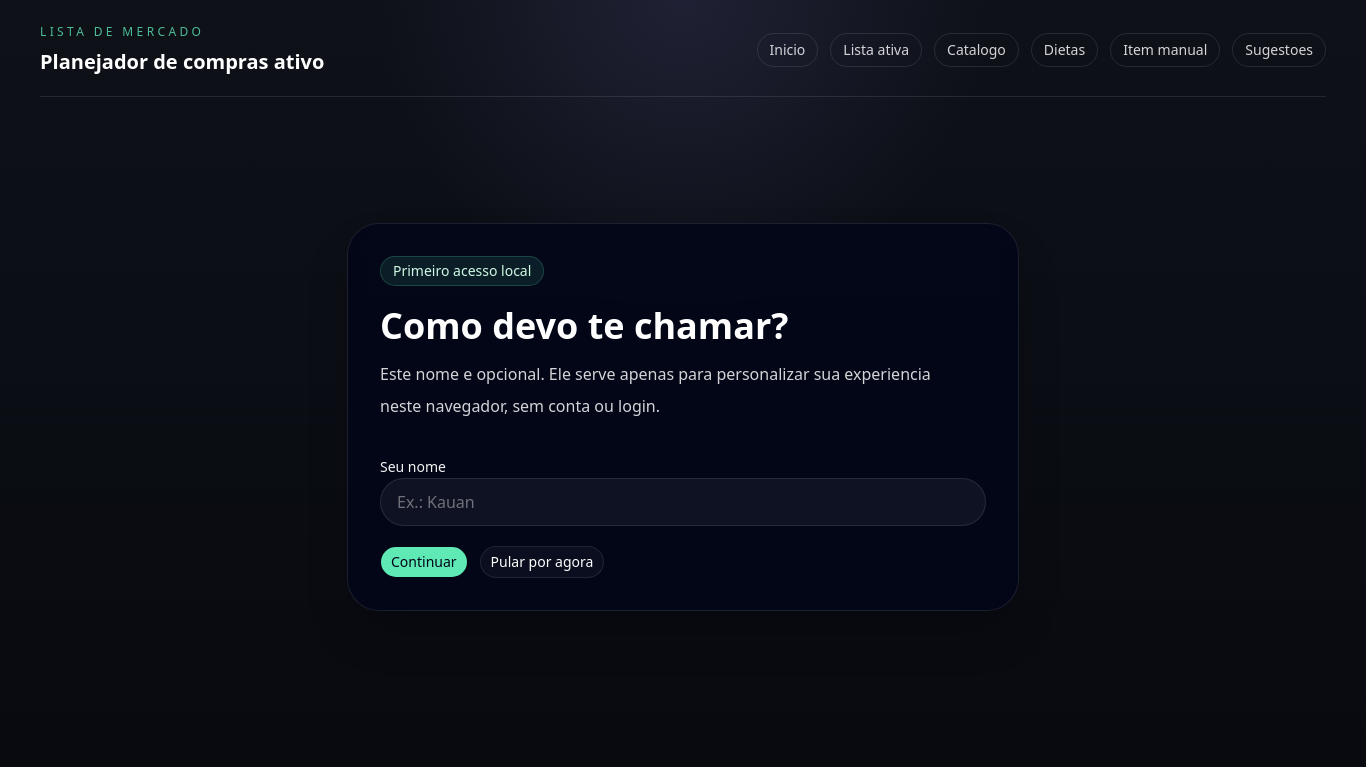
Scenario: shopping-list workspace › shows the first-use step and lets the user skip directly to the workspace
The image size is (1366, 767).
Check: the heading "Como devo te chamar?" is shown, box [380,301,788,350]
What coordinates should you click on to do the following:
click the button "Pular por agora"
I would click on:
 (542, 562)
Its box is [480,546,604,578].
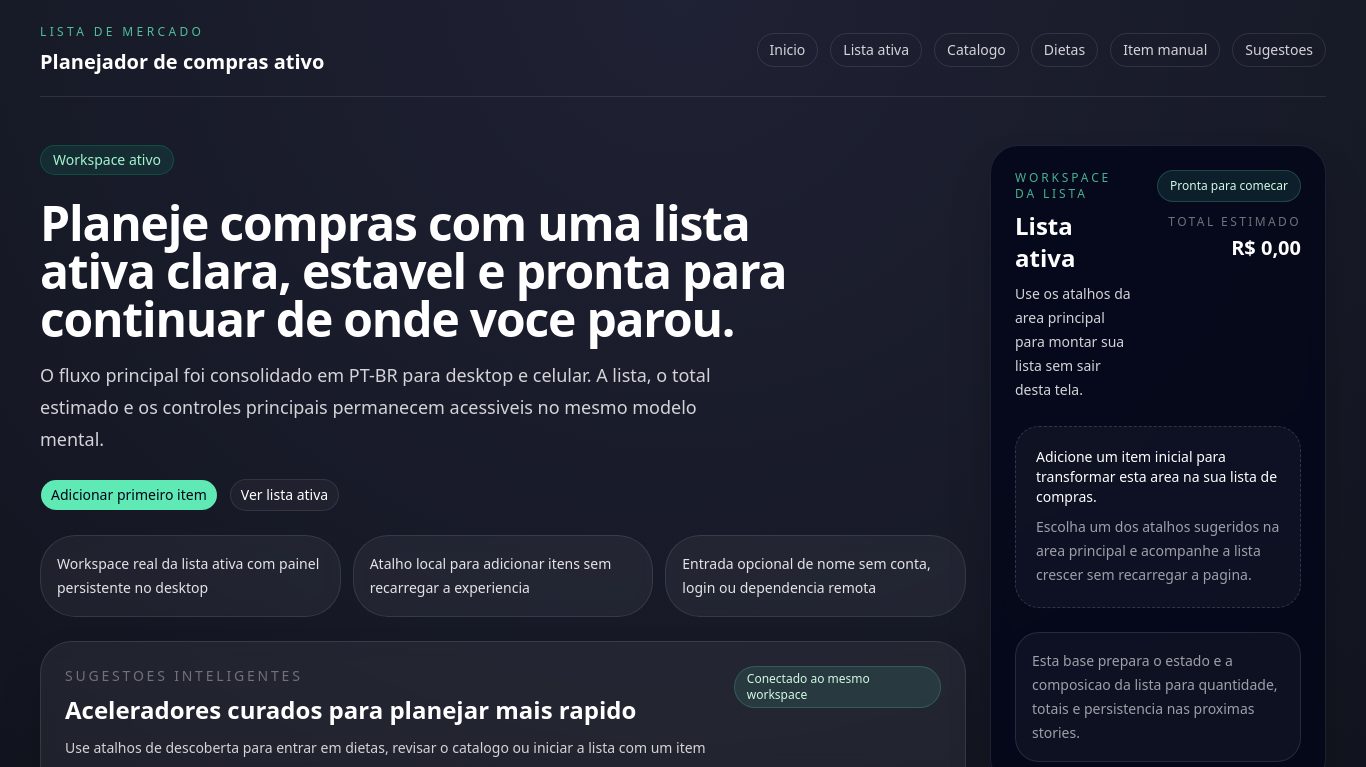
Check: the heading "Lista ativa" is shown, box [1015,209,1075,274]
Check: the text "Adicione um item inicial para transformar esta area na sua lista de compras." is shown, box [1036,447,1280,507]
